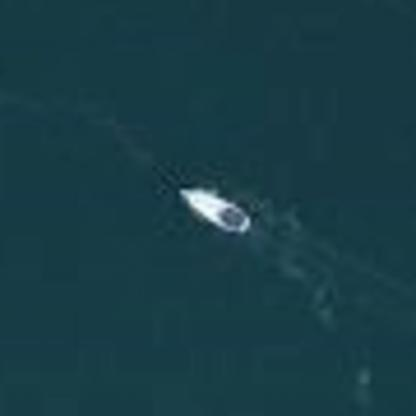ship: (168, 179, 258, 239)
